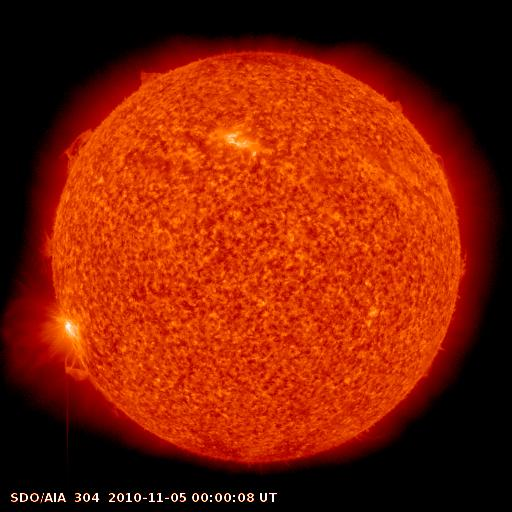prominence: (28, 219, 76, 276), (52, 122, 101, 175), (56, 339, 102, 391), (125, 59, 172, 99), (451, 240, 477, 286), (427, 140, 454, 176), (385, 86, 406, 121)
